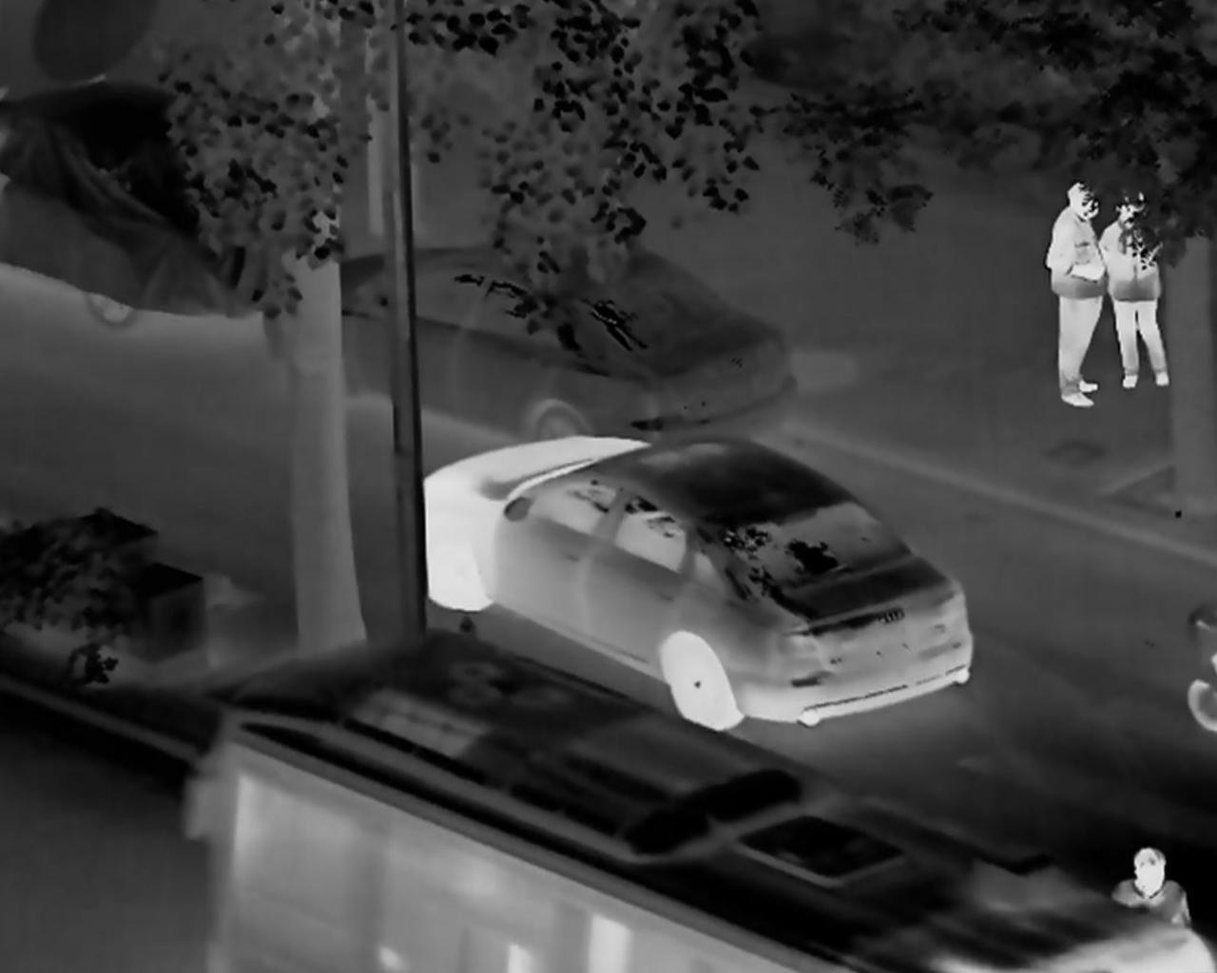person: (1096, 190, 1174, 392), (1044, 177, 1105, 409), (1099, 843, 1191, 940)
